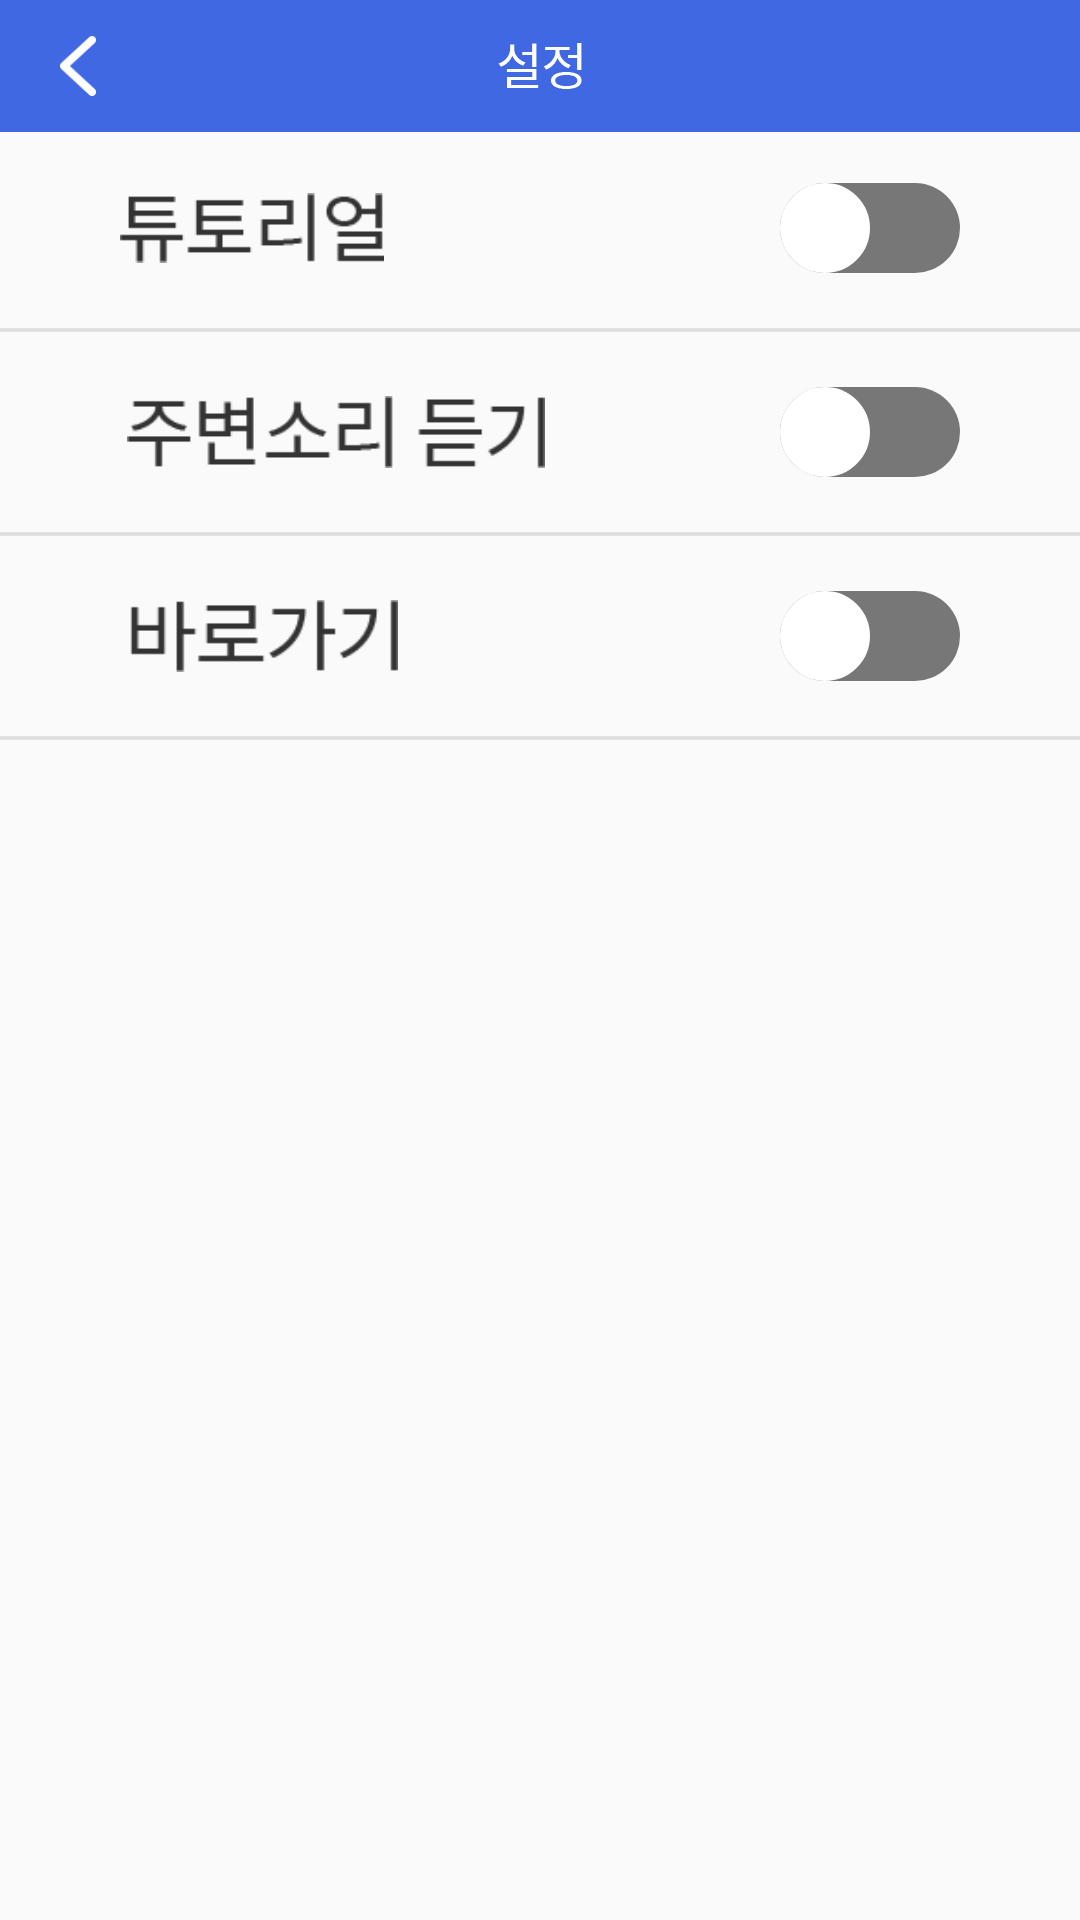

Where to tap for icons on this 1080w x 1920h app screen, as (x=x, y=y):
backbutton: (x=78, y=66)
